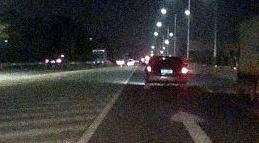L_light: (146, 66, 155, 72)
R_light: (179, 67, 188, 73)
T_light: (163, 57, 172, 60)
night-no: (144, 55, 188, 90)
